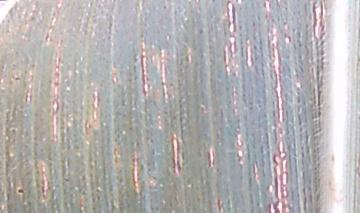tarspot: (15, 185, 25, 195), (13, 75, 20, 82), (162, 4, 167, 9)
